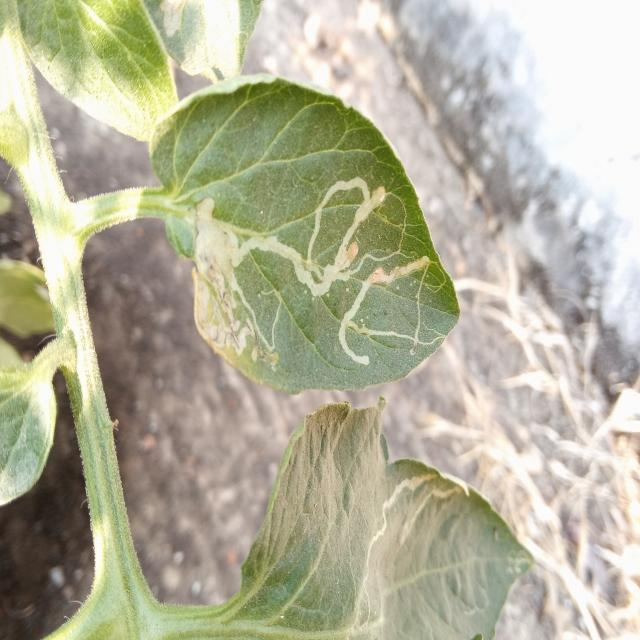Tuta absoluta: (176, 170, 413, 363), (327, 235, 439, 374)
